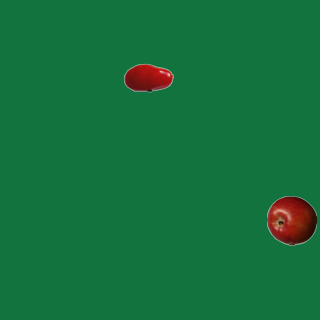Apple Braeburn: (266, 195, 316, 245)
Tomato 2: (123, 52, 173, 102)
